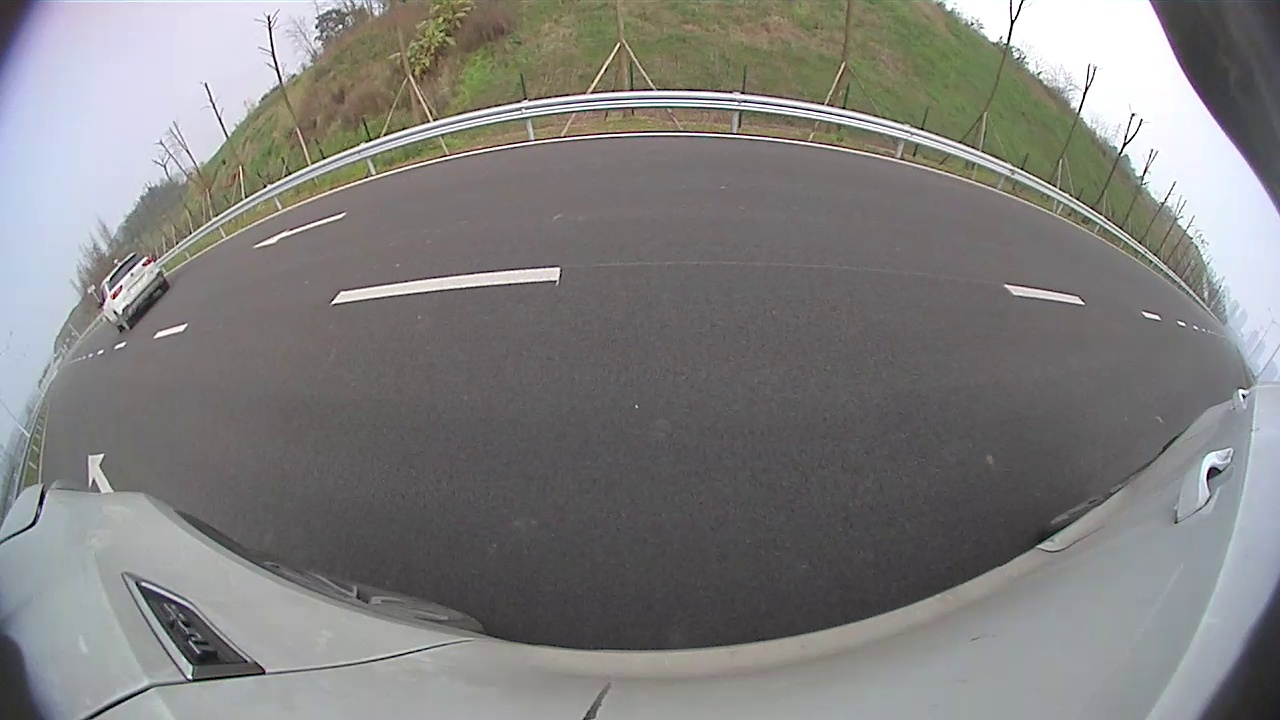car: (99, 251, 170, 333)
rear: (114, 312, 131, 332)
